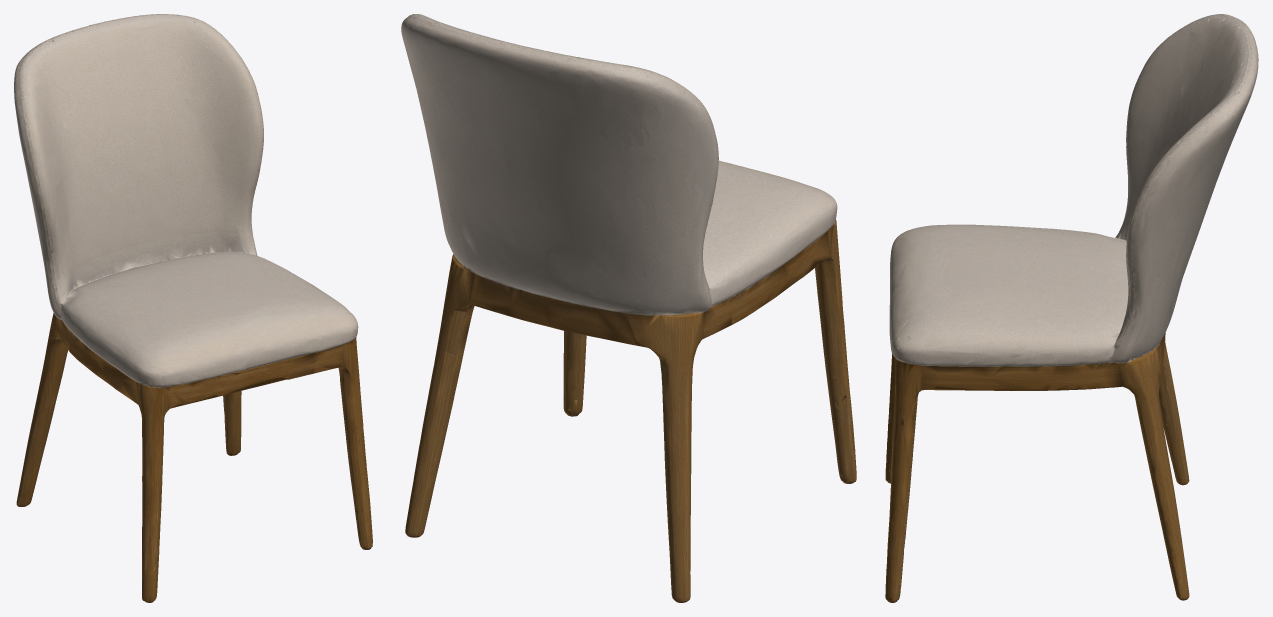
File: scandinavian-wood-and-linen-chair.glb
3 renders of one model, left to right at view 1: azimuth 30°, elevation 25°; view 2: azimuth 150°, elevation 25°; view 3: azimuth 270°, elevation 25°, orthographic. The views are drawn at different scales.
Visible parts, largest first — view 1: mesh_node; view 2: mesh_node; view 3: mesh_node.
Boxes of the visible parts, left/top/right/bottom form: mesh_node: left=14, top=14, right=372, bottom=602; mesh_node: left=401, top=14, right=856, bottom=602; mesh_node: left=885, top=14, right=1258, bottom=602.
Bounding box in the file's own units: 0.4767 × 0.85 × 0.5886.
Materials: 1 (1 with a texture image).
